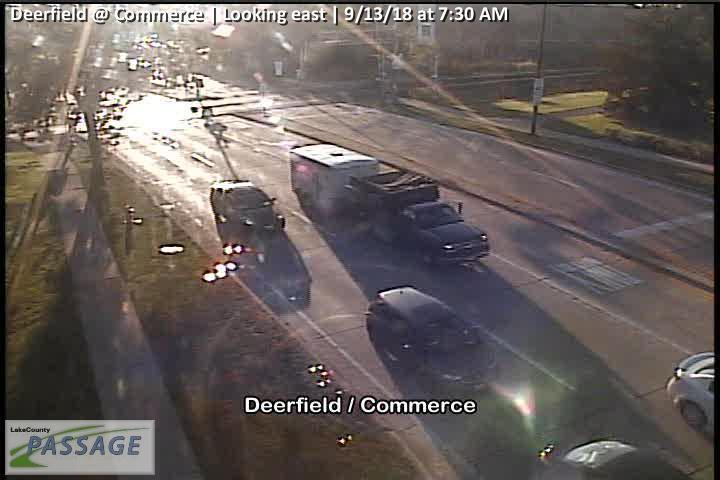Sedan: (366, 287, 499, 395), (554, 440, 672, 480), (667, 349, 715, 442), (208, 180, 286, 235)
Truck: (287, 138, 491, 269)
